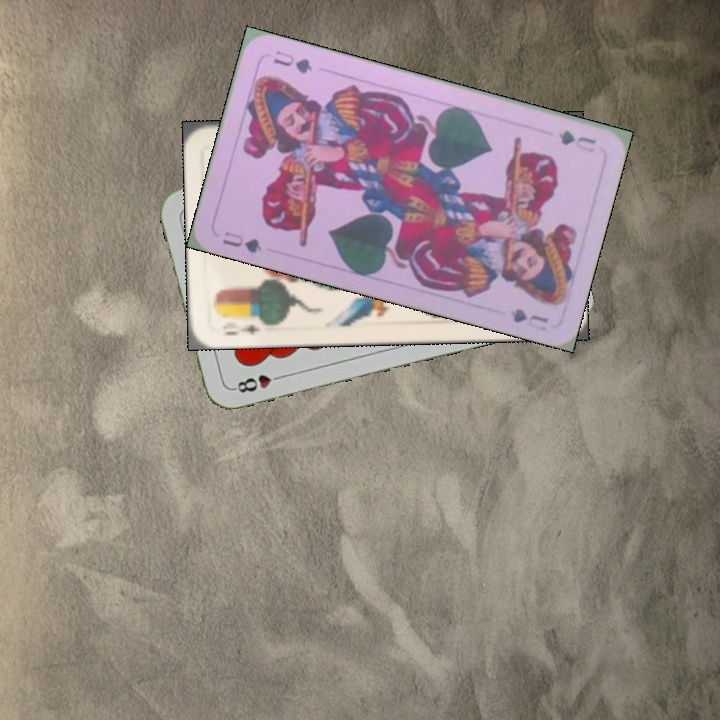EO: (221, 313, 272, 338)
GU: (218, 227, 265, 256), (554, 126, 599, 155)
H8: (229, 370, 287, 396)
